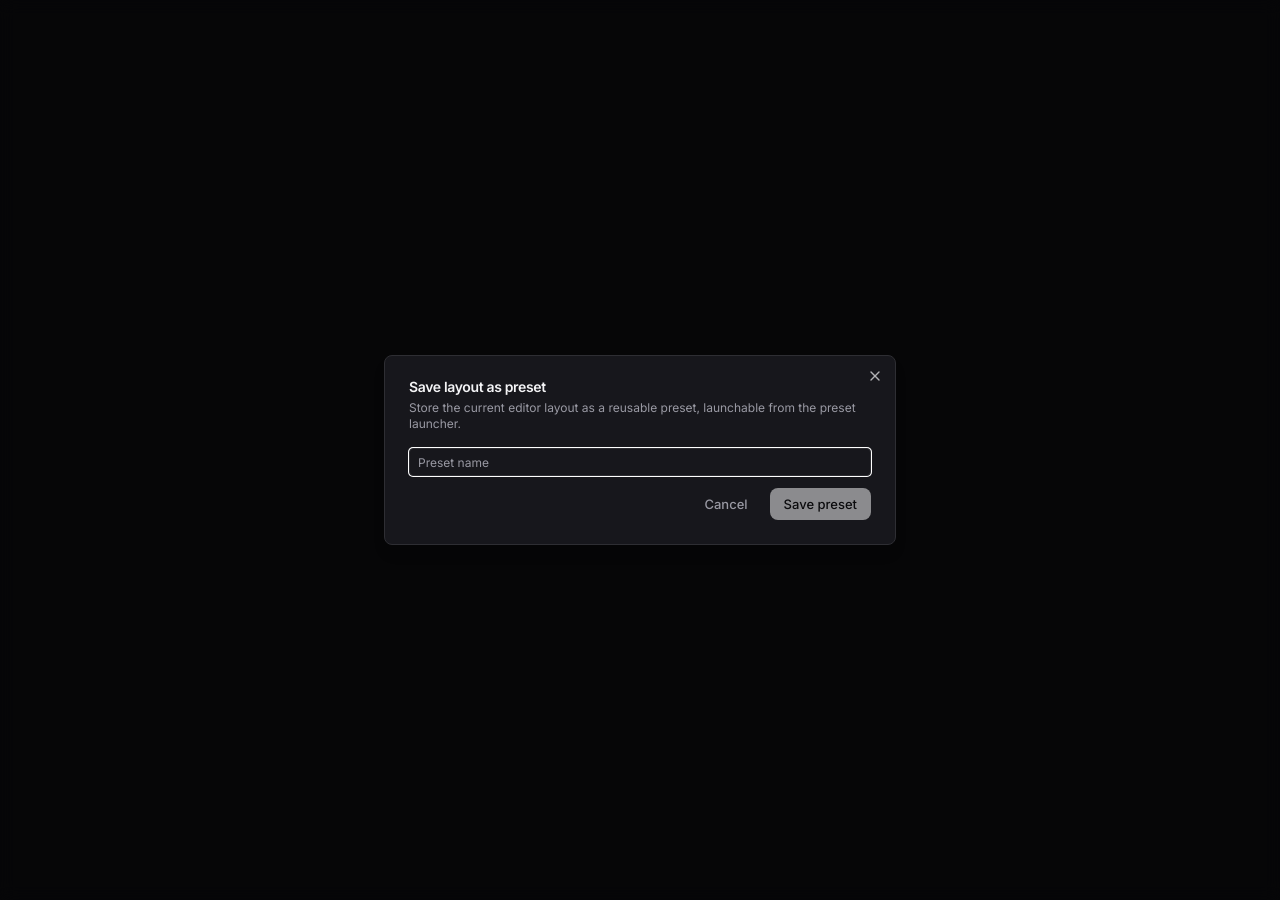
Scenario: SaveLayoutDialog › ignores re-submit while a save is in flight
The image size is (1280, 900).
Type "x" into the field with test id "save-layout-name" at (640, 462), box [409,448,871,476]
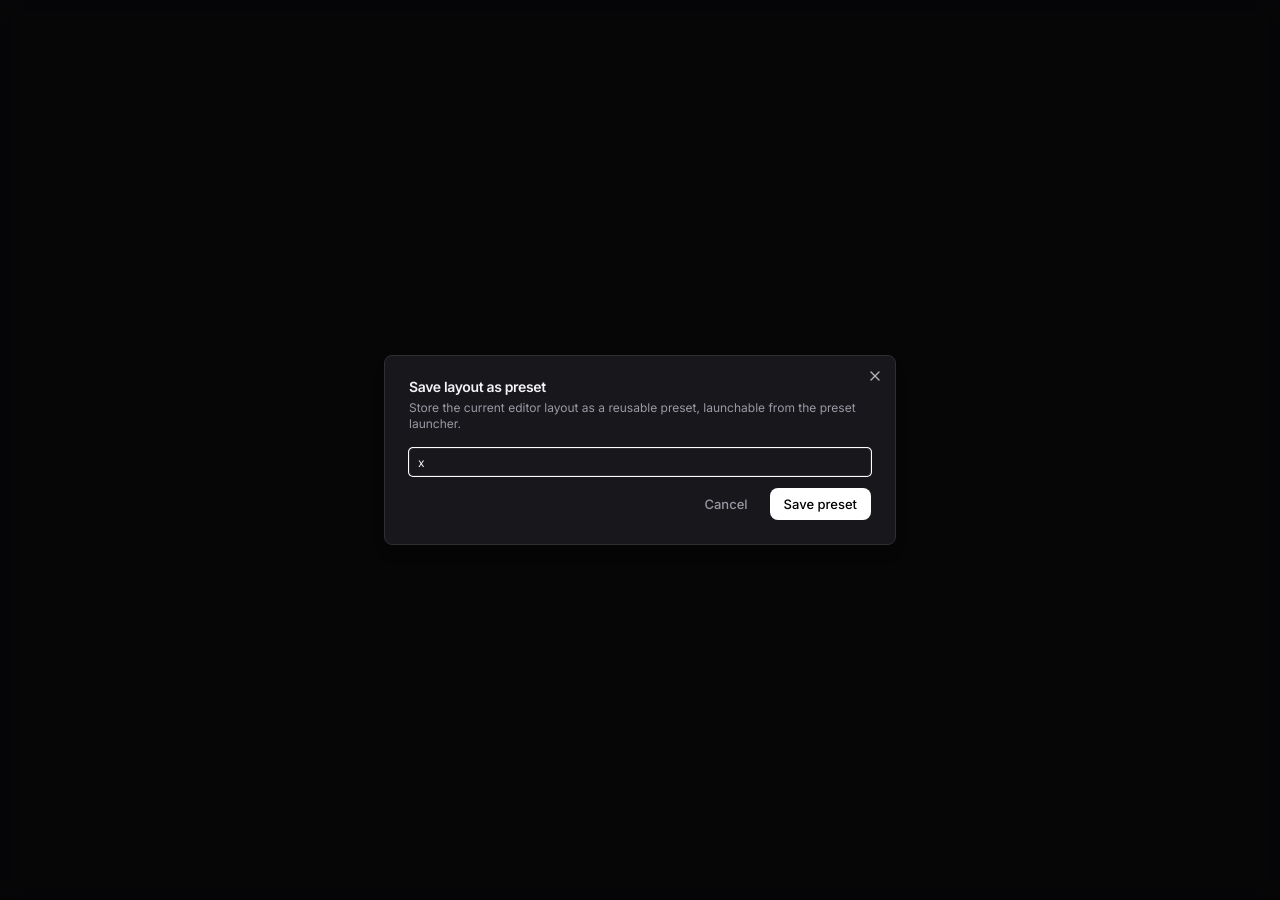
Click the button with test id "save-layout-confirm" at (820, 504), box [770,488,871,520]
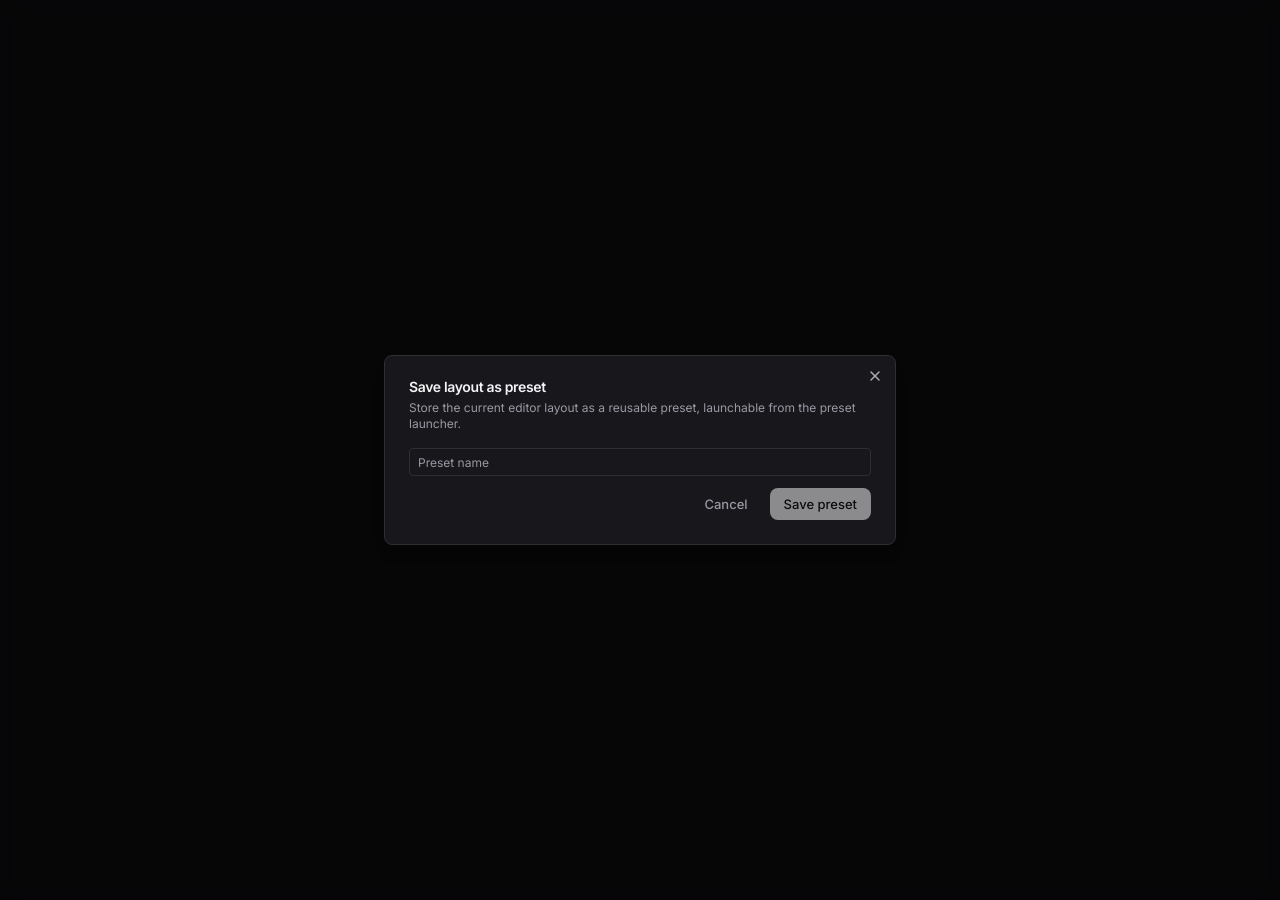
Result: the button with test id "save-layout-confirm" is disabled at [770,488,871,520]
